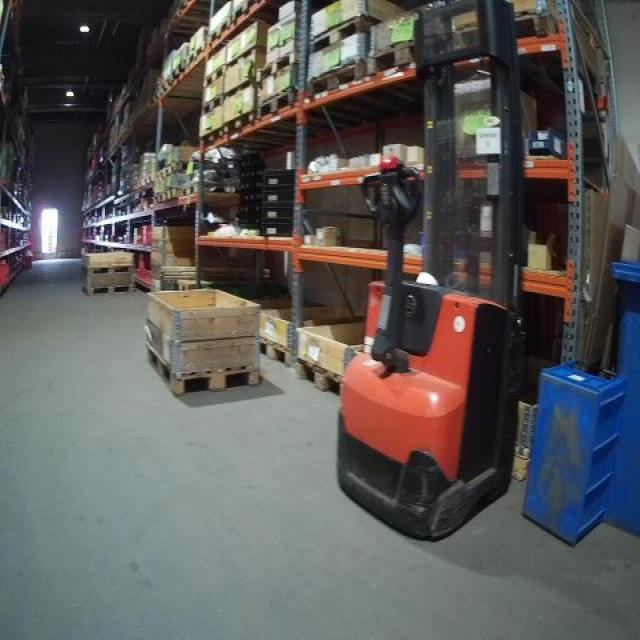pallet: (440, 11, 567, 85), (144, 337, 262, 401), (352, 36, 446, 95), (303, 18, 371, 66), (304, 54, 370, 102), (298, 348, 345, 397), (254, 84, 300, 125), (253, 48, 299, 85), (254, 328, 295, 369), (224, 106, 262, 140), (74, 259, 133, 280), (227, 45, 263, 75), (228, 1, 268, 27), (74, 282, 133, 299), (208, 20, 235, 50), (203, 63, 230, 90), (200, 89, 227, 114), (200, 121, 224, 148), (187, 43, 206, 65), (164, 162, 185, 176), (166, 186, 180, 199), (153, 193, 166, 205)
pallet_truck: (332, 4, 524, 548)
small_load_carrier: (262, 168, 297, 188), (260, 220, 296, 237), (260, 188, 297, 204), (260, 204, 296, 220)
